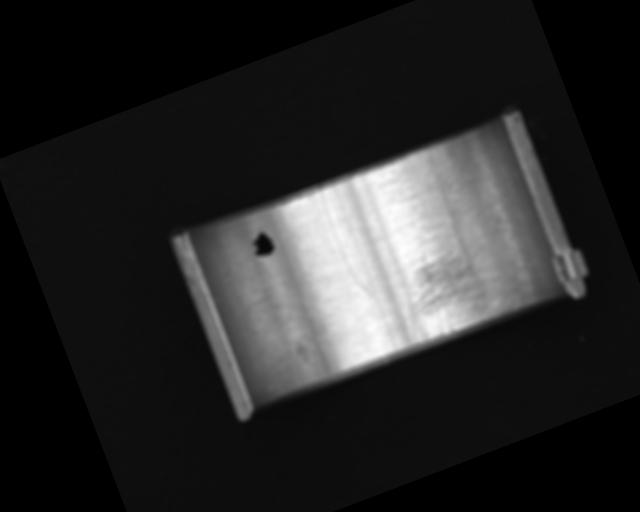blot: (245, 223, 278, 261)
bruise: (291, 339, 313, 367)
nick: (315, 183, 375, 303)
scratch: (384, 228, 521, 351)
